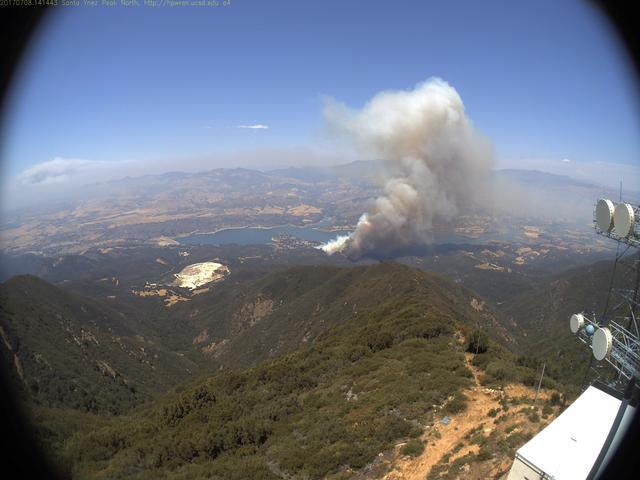smoke: (310, 73, 522, 259)
